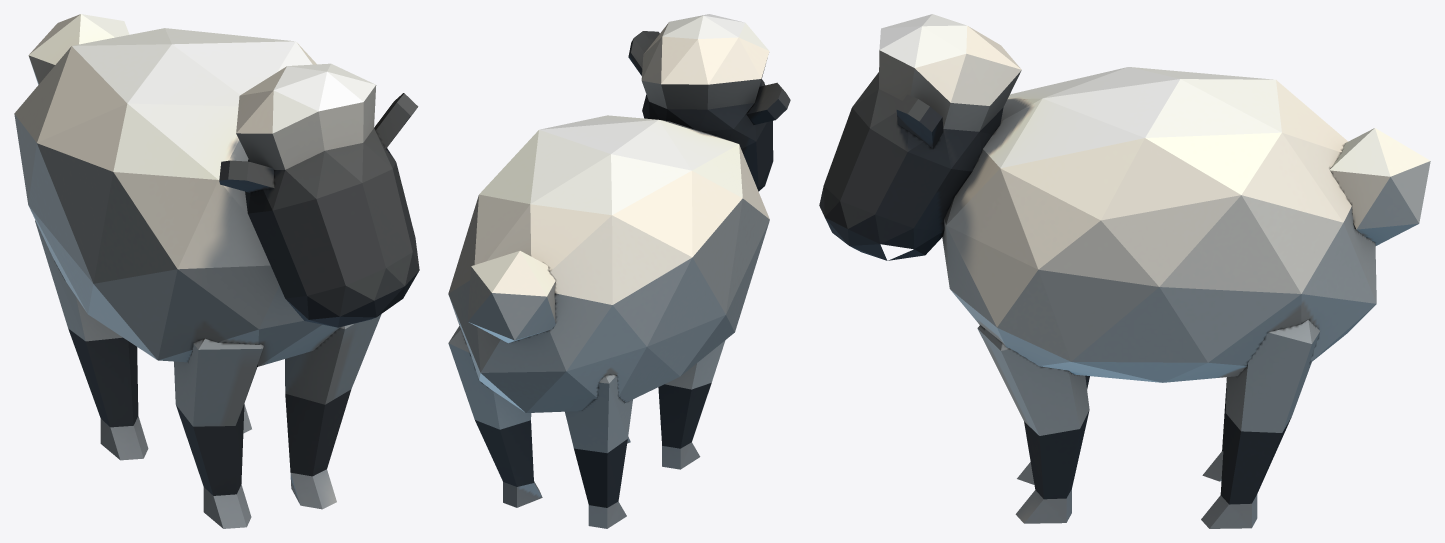
The picture shows the model from 3 angles, left to right: view 1: azimuth 30°, elevation 25°; view 2: azimuth 150°, elevation 25°; view 3: azimuth 270°, elevation 25°; orthographic projection. The views are drawn at different scales.
Parts seen in each view (by area): view 1: sheep; view 2: sheep; view 3: sheep.
Part boxes in pixels (box(x1,y1,x2,y2)): sheep: box(14, 14, 419, 528); sheep: box(448, 14, 790, 528); sheep: box(819, 14, 1430, 528).
Bounding box in the file's own units: 0.9709 × 1.6 × 1.89.
Materials: 1 (1 with a texture image).
